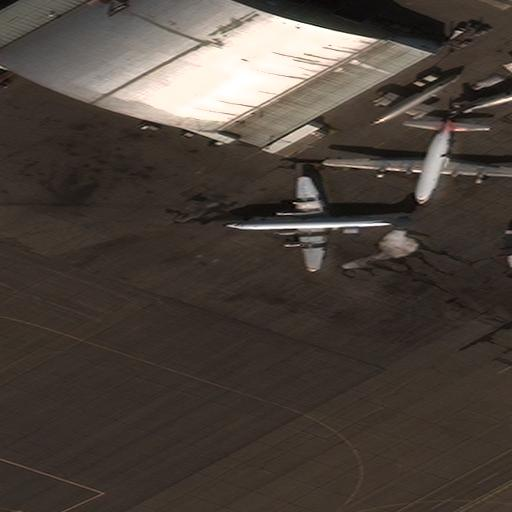Medium Civil Transport: (224, 178, 413, 270), (323, 119, 512, 205)
